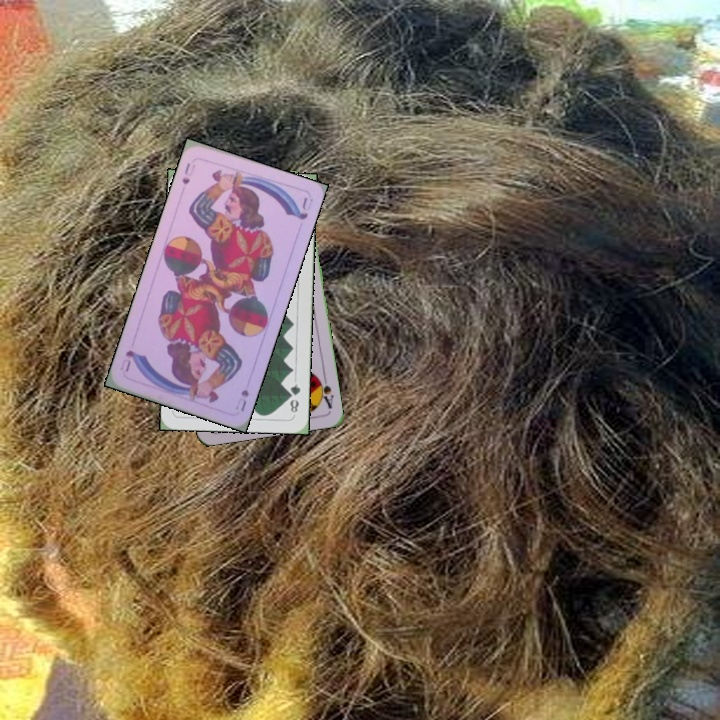G8: (285, 380, 303, 415)
SA: (313, 371, 336, 411)
SU: (231, 385, 251, 414), (178, 159, 193, 187)
